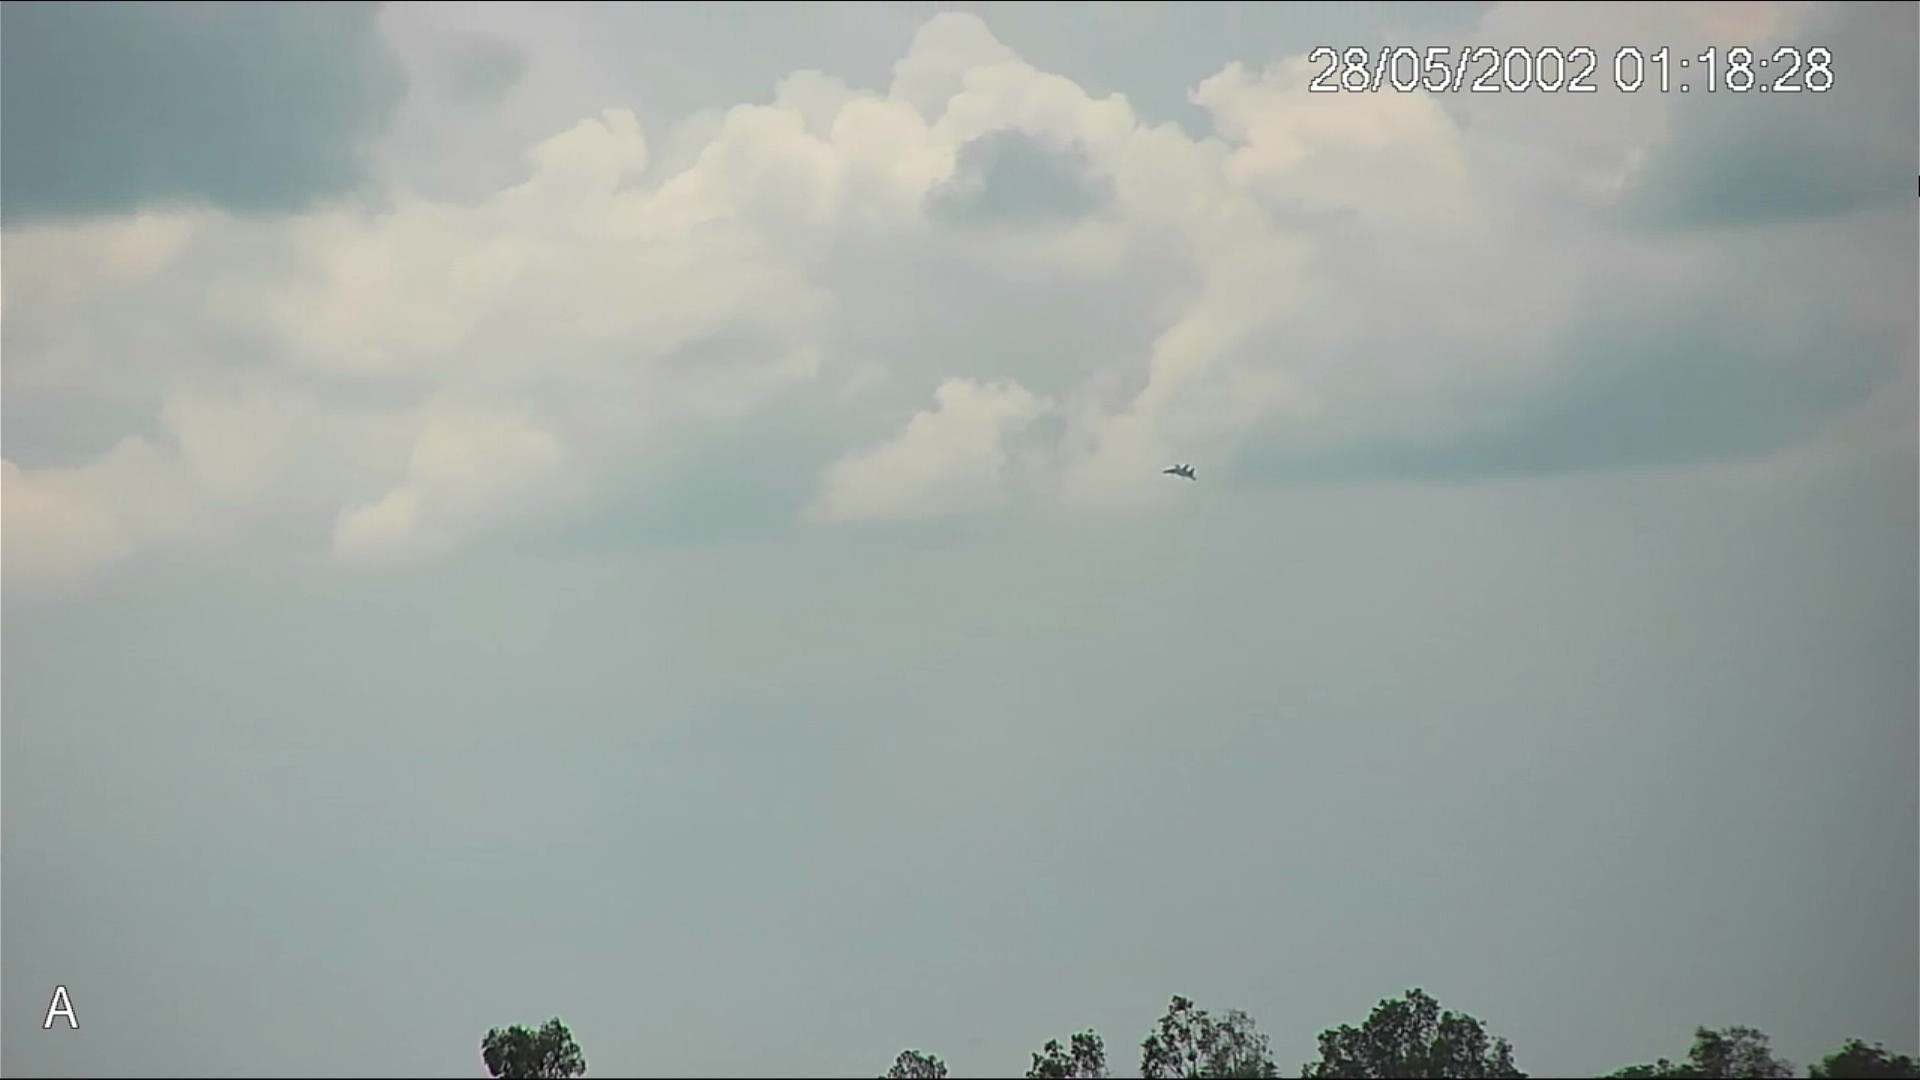SU_30: (1160, 462, 1199, 483)
